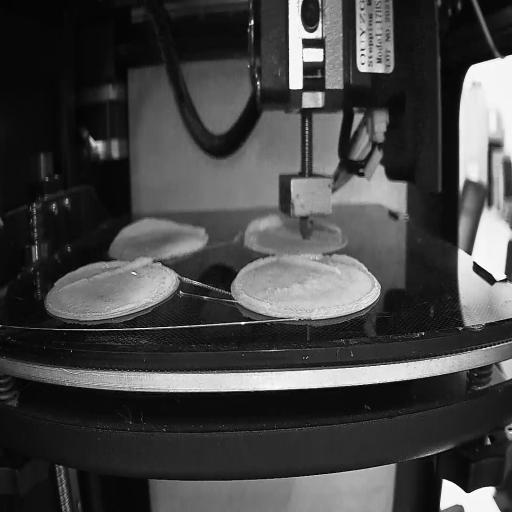over_extrusion: (59, 256, 155, 292), (112, 216, 212, 249), (233, 254, 278, 306), (281, 254, 366, 276), (240, 215, 291, 243)
